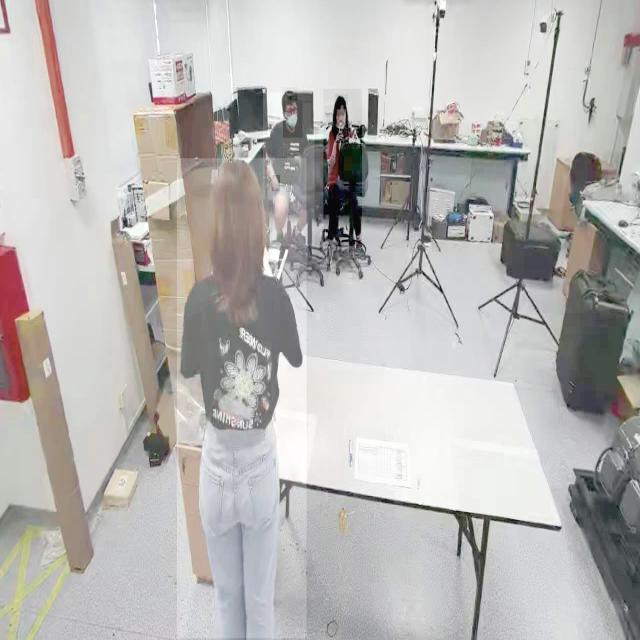face_mask: (283, 100, 303, 138)
face_nomask: (336, 110, 346, 126)
hand_noglove: (272, 175, 280, 192), (335, 128, 343, 144)
head_nohelmet: (210, 158, 264, 205), (282, 87, 298, 101), (334, 94, 348, 106)
person: (176, 158, 306, 639), (262, 92, 314, 246), (323, 89, 362, 247)
